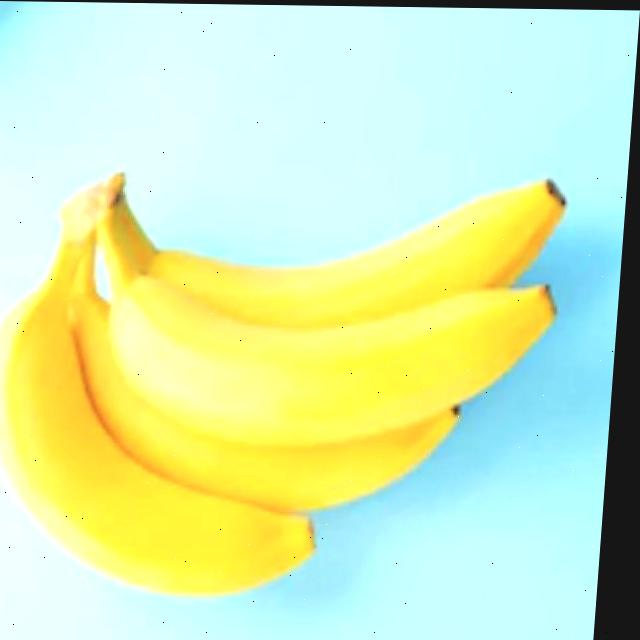banana: (0, 110, 597, 596)
